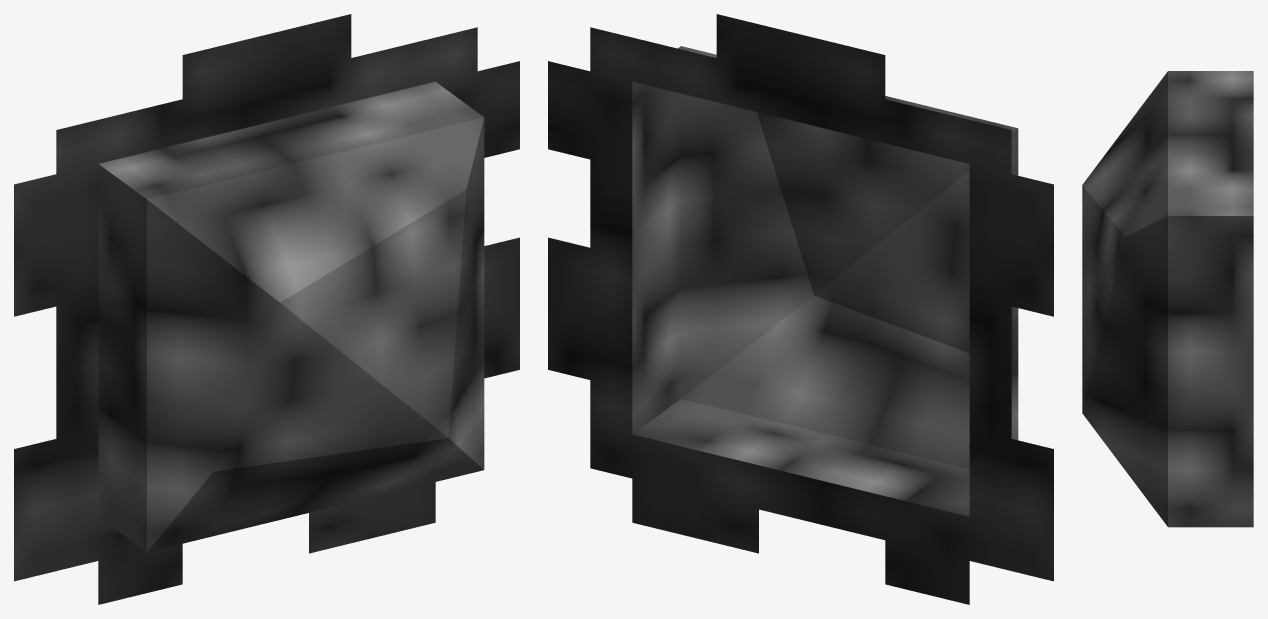
The model's file is tile_stone.fbx.
The picture shows the model from 3 angles, left to right: view 1: azimuth 30°, elevation 25°; view 2: azimuth 150°, elevation 25°; view 3: azimuth 270°, elevation 25°; orthographic projection. The views are drawn at different scales.
Parts seen in each view (by area): view 1: tile_stone; view 2: tile_stone; view 3: tile_stone.
Boxes of the visible parts, x1,y1,x2,y2 form: tile_stone: (14,14,519,604); tile_stone: (548,14,1053,604); tile_stone: (1082,71,1253,527).
Size of the model in its own units: 0.5 by 1.5 by 1.5.
